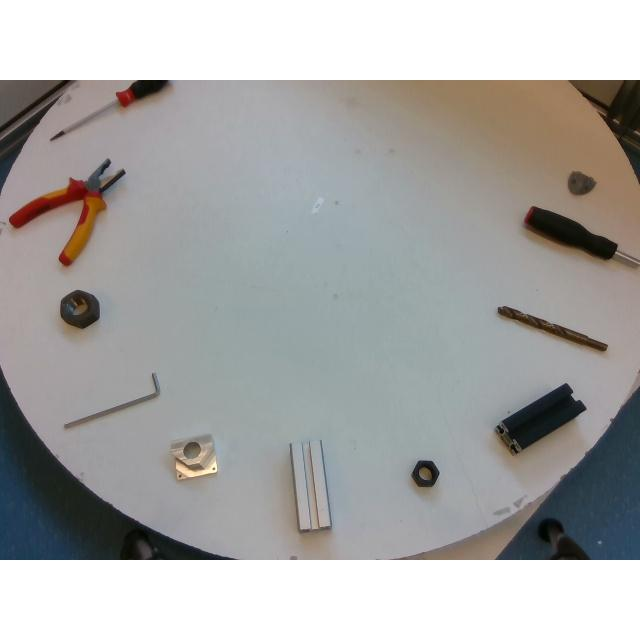Drill: (497, 306, 607, 350)
M20: (411, 459, 439, 487)
M30: (60, 290, 100, 328)
S40_40_B: (495, 382, 585, 453)
S40_40_G: (290, 441, 330, 532)
